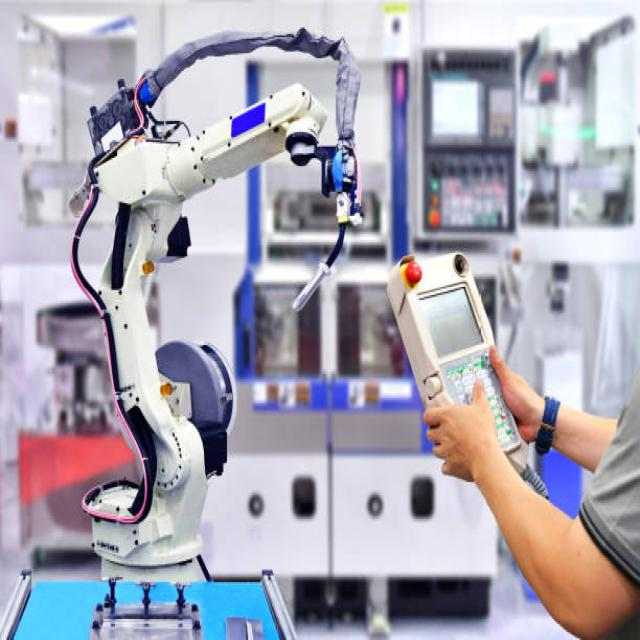Robotic-arm: (68, 75, 336, 588)
